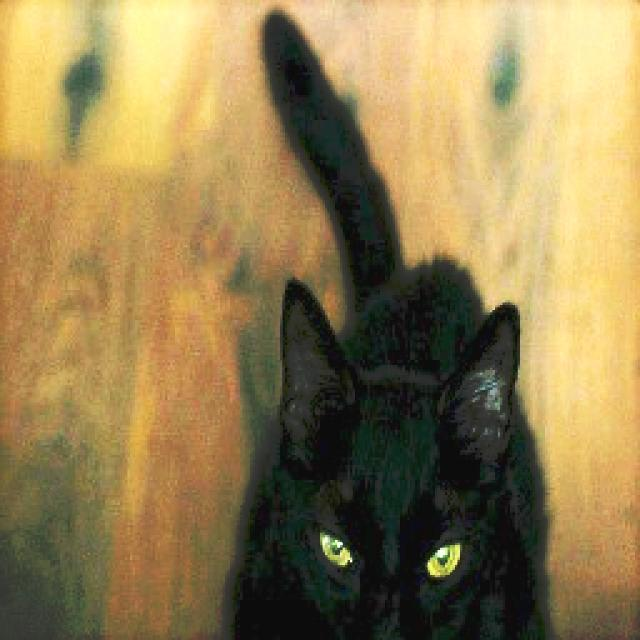cat: (189, 6, 583, 640)
